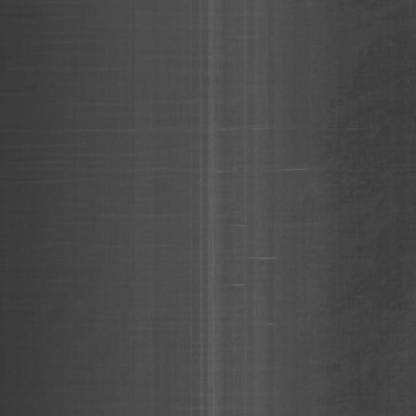waist_folding: (176, 31, 326, 384)
